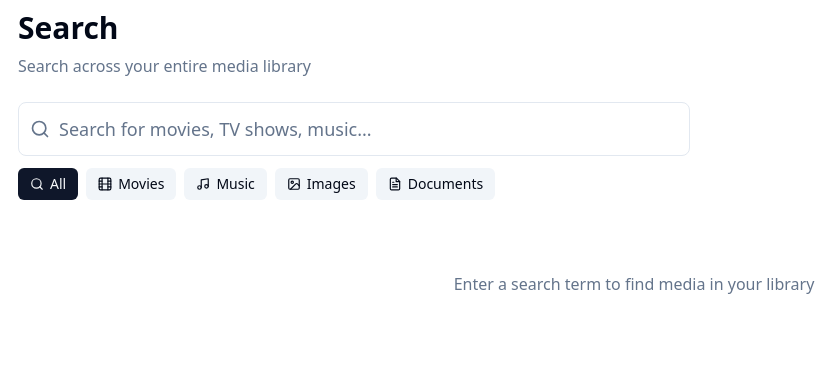
Test: SearchPage › displays media type and year for results
Type "Great" into the field with placeholder "Search for movies, TV shows, music...".
click(354, 129); type("Great")  # box [18,102,690,156]
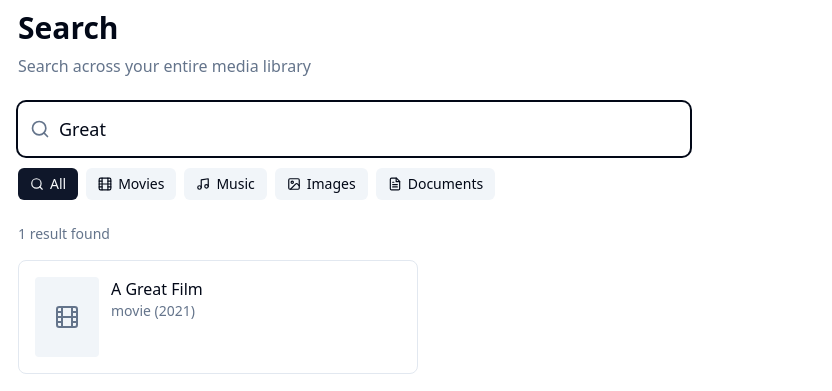
Expected: the text "movie (2021)" is shown, [111,301,195,320]
